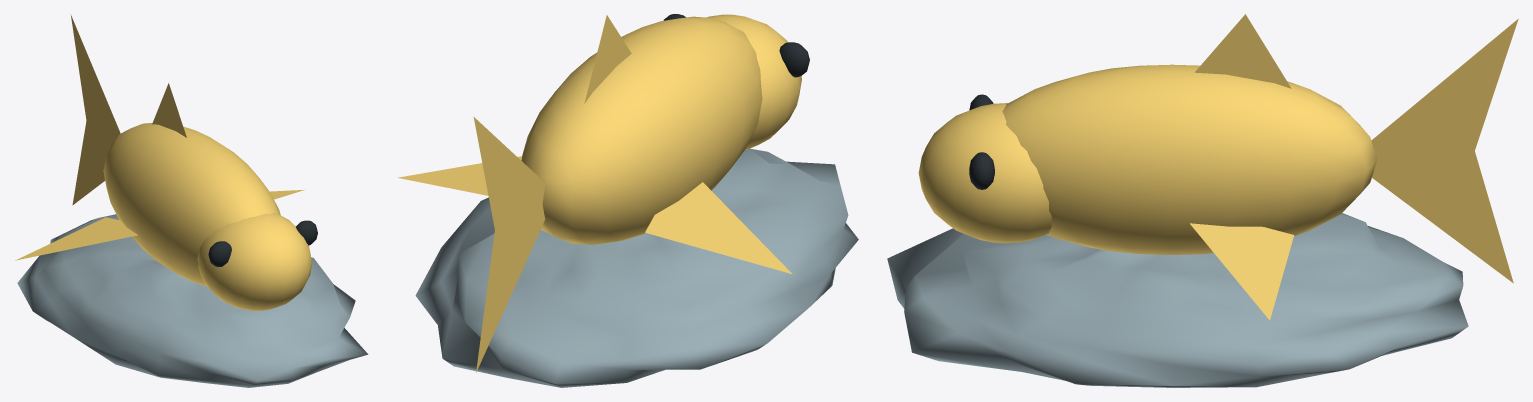
The model's file is underwater-reef-worlds-grouper-a2217959__7074.glb.
The picture shows the model from 3 angles, left to right: view 1: azimuth 30°, elevation 25°; view 2: azimuth 150°, elevation 25°; view 3: azimuth 270°, elevation 25°; orthographic projection. The views are drawn at different scales.
Visible parts, largest first — view 1: grouper; view 2: grouper; view 3: grouper.
Boxes of the visible parts, x1,y1,x2,y2 form: grouper: (15, 14, 368, 387); grouper: (397, 14, 858, 387); grouper: (887, 14, 1518, 387).
Size of the model in its own units: 0.864 by 0.607 by 1.16.
